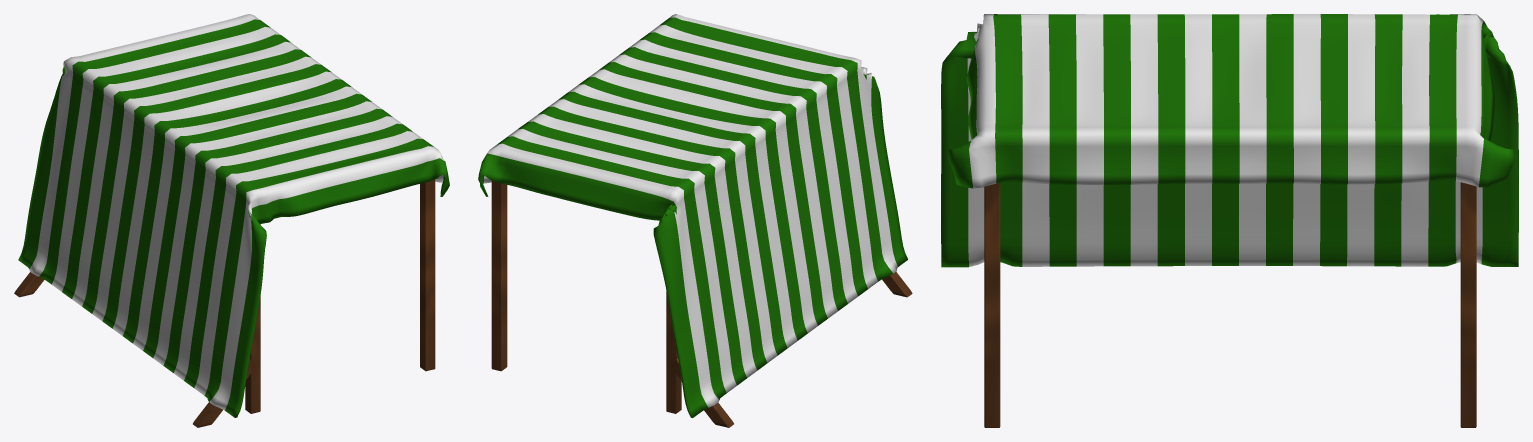
Rendered from Canopy04.glb.
3 views of the same model, side by side, from view 1: azimuth 30°, elevation 25°; view 2: azimuth 150°, elevation 25°; view 3: azimuth 270°, elevation 25° (orthographic). The views are drawn at different scales.
Visible parts, largest first — view 1: canopy4; view 2: canopy4; view 3: canopy4.
Boxes of the visible parts, <box> form: canopy4: <box>14,14,449,427</box>; canopy4: <box>478,14,912,427</box>; canopy4: <box>941,14,1518,427</box>.
Size of the model in its own units: 7.32 by 6.31 by 11.08.
3 materials, 1 textured.
